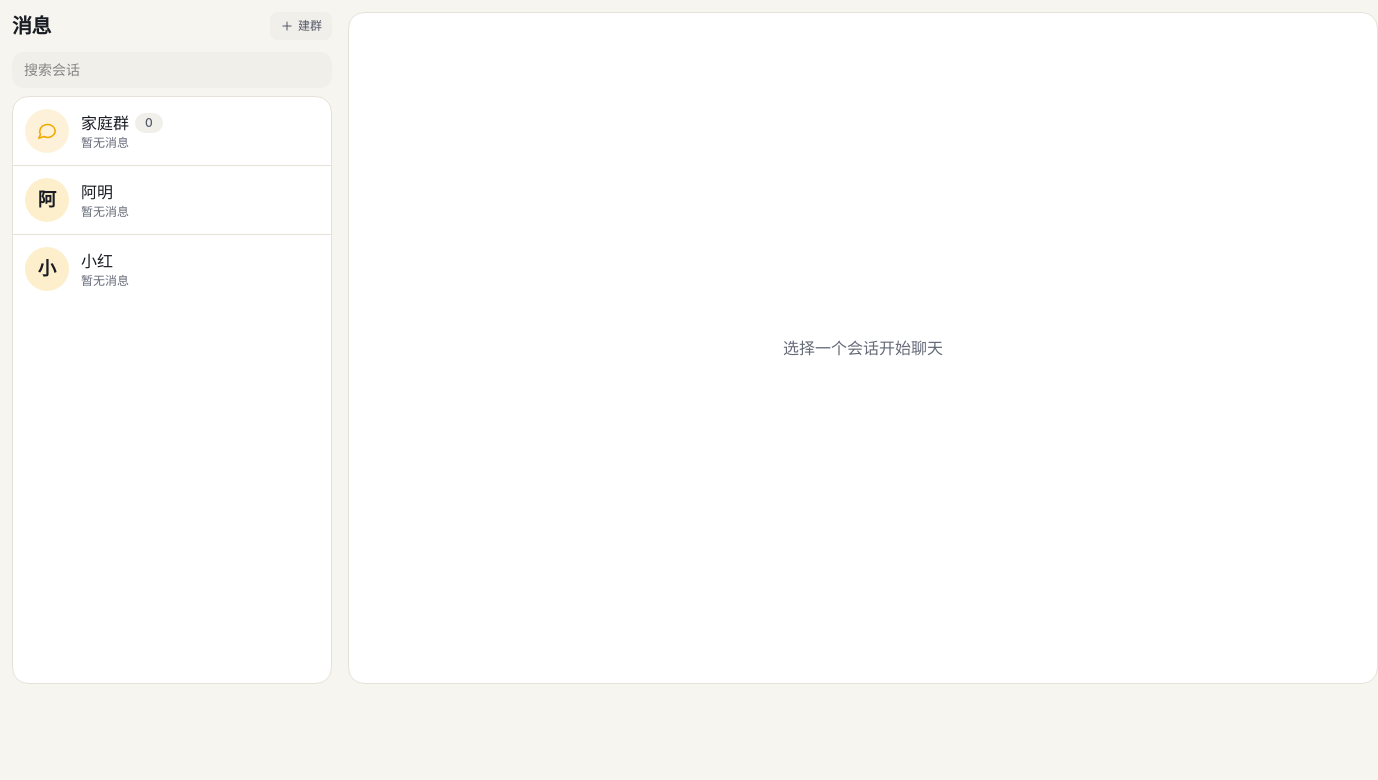
Test: ChatPage 会话列表按名字搜索过滤 › 全局命中打满上限(20)→列表尾如实标注"仅显示最近 20 条匹配"；未打满不标（no-silent-caps）
The image size is (1378, 780).
Expected: the text "阿明" is shown, [81,180,113,204]
Step 1. Type "地址" into the search field labelled "搜索会话" → (172, 70), box [12,52,332,88]
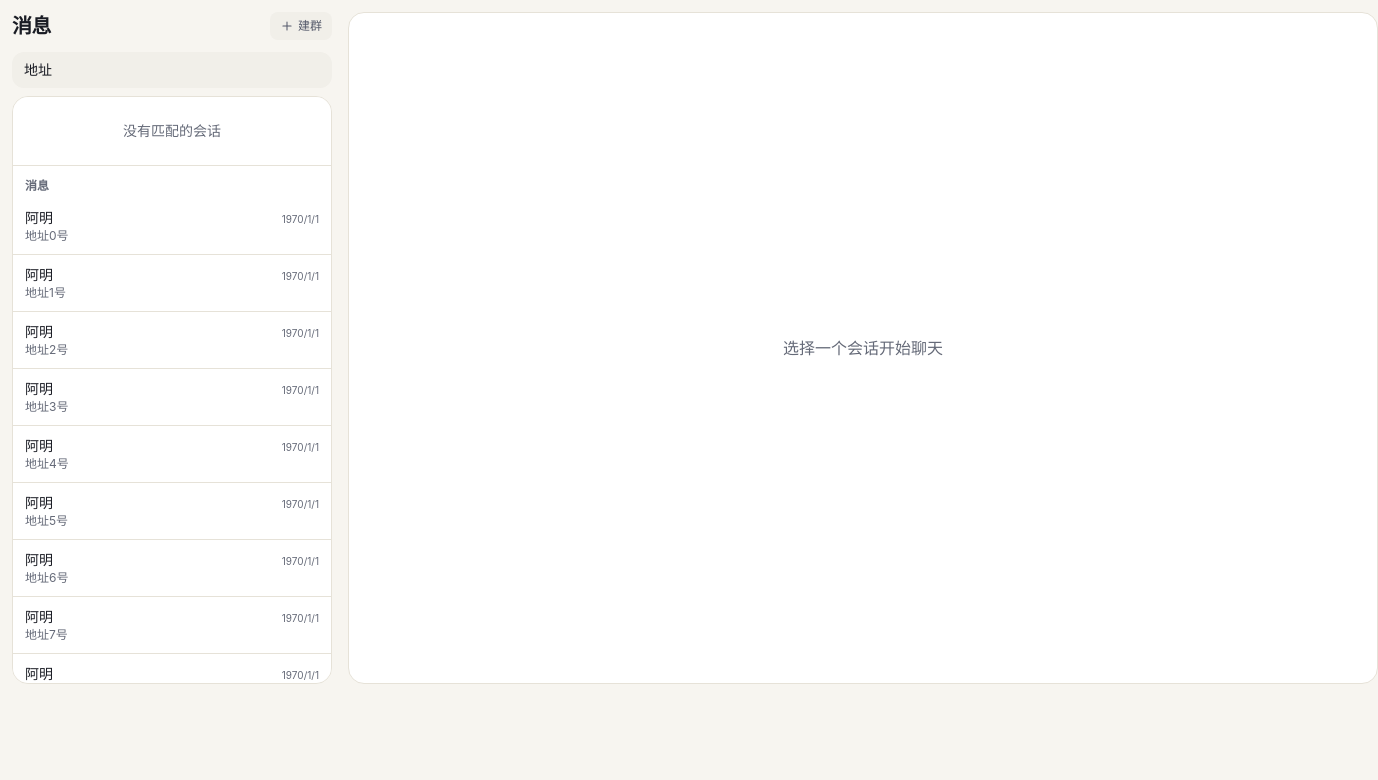
Step 2. Replace the text in the search field named "搜索会话" with "唯一地址" → (172, 70), box [12,52,332,88]
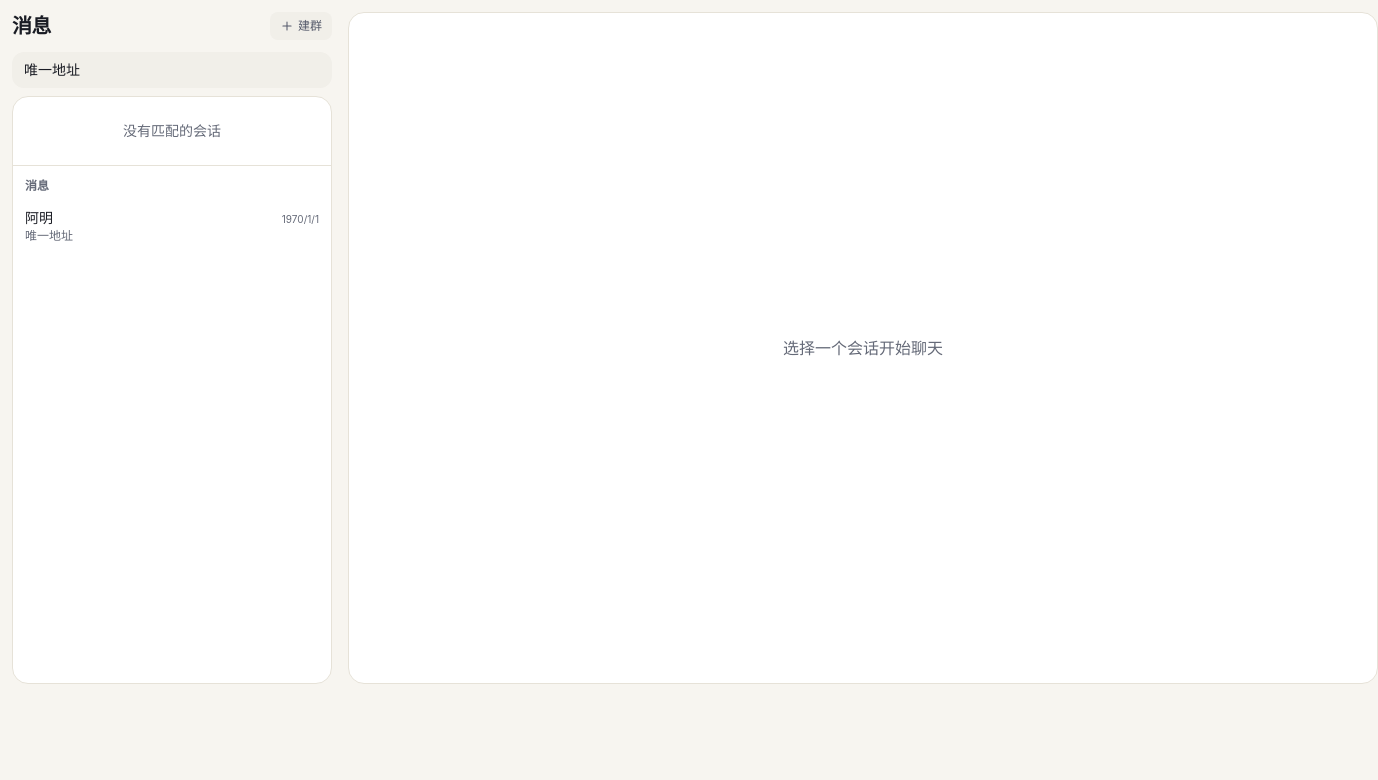
Expected: the text "唯一地址" is shown, [25,228,73,243]
